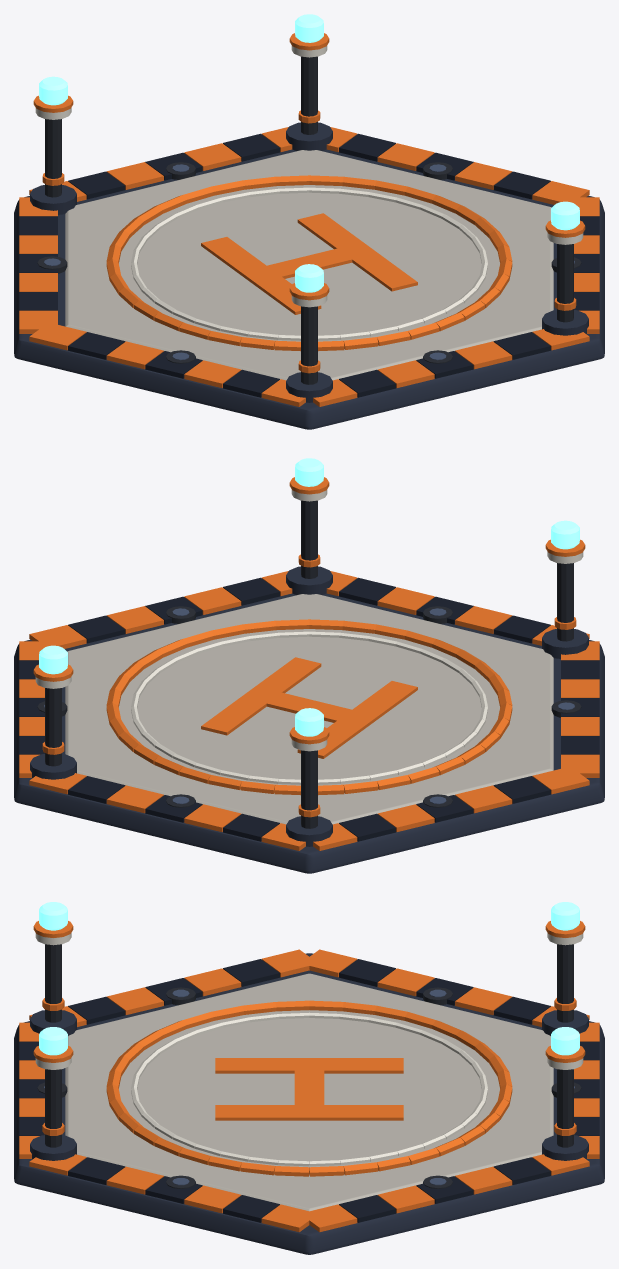
File: extraction_pad.fbx
3 renders of one model, top to bottom at view 1: azimuth 30°, elevation 25°; view 2: azimuth 150°, elevation 25°; view 3: azimuth 270°, elevation 25°, orthographic.
Visible parts, largest first — view 1: Body, Light_1, Light_3, Light_4, Light_2; view 2: Body, Light_2, Light_4, Light_1, Light_3; view 3: Body, Light_2, Light_3, Light_1, Light_4.
Part boxes in pixels (x1,y1,x2,y2): Body: (14,33,604,429); Light_1: (295,14,323,42); Light_3: (295,264,323,292); Light_4: (551,201,579,230); Light_2: (39,76,67,105); Body: (14,477,604,873); Light_2: (295,708,323,736); Light_4: (295,458,323,486); Light_1: (39,645,67,674); Light_3: (551,520,579,549); Body: (14,921,604,1254); Light_2: (551,902,579,930); Light_3: (39,902,67,930); Light_1: (551,1027,579,1055); Light_4: (39,1027,67,1055).
Size of the model in its own units: 15.88 by 3.7 by 13.8.
Materials: 5 (1 with a texture image).
